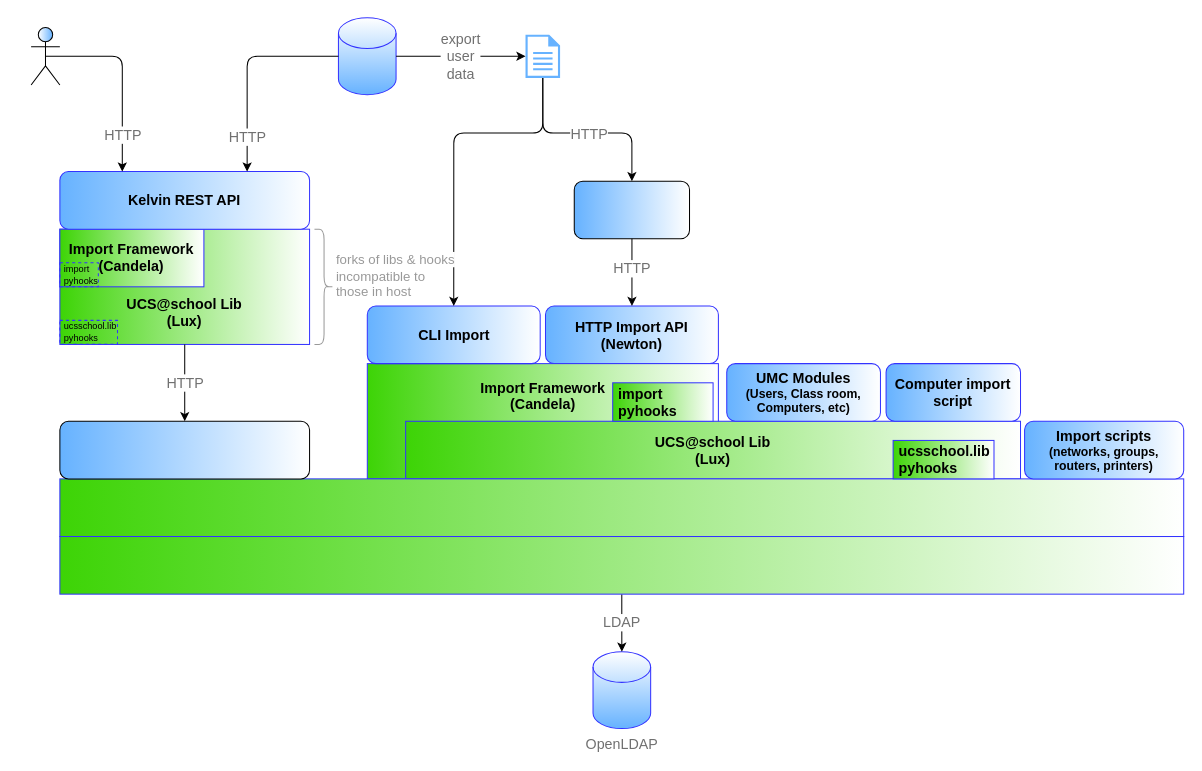
Some shapes in this 1202 by 771 pixel diagram are drawn without their labels. Here are the shapes that lost their labels. From the top down, the centre of each, then its label:
the point at 45,55: 3rd party software
the point at 366,56: School management software
the point at 542,55: Input data
the point at 631,209: UMC Import
the point at 184,449: UDM REST API
the point at 621,507: UDM
the point at 621,565: python-ldap
